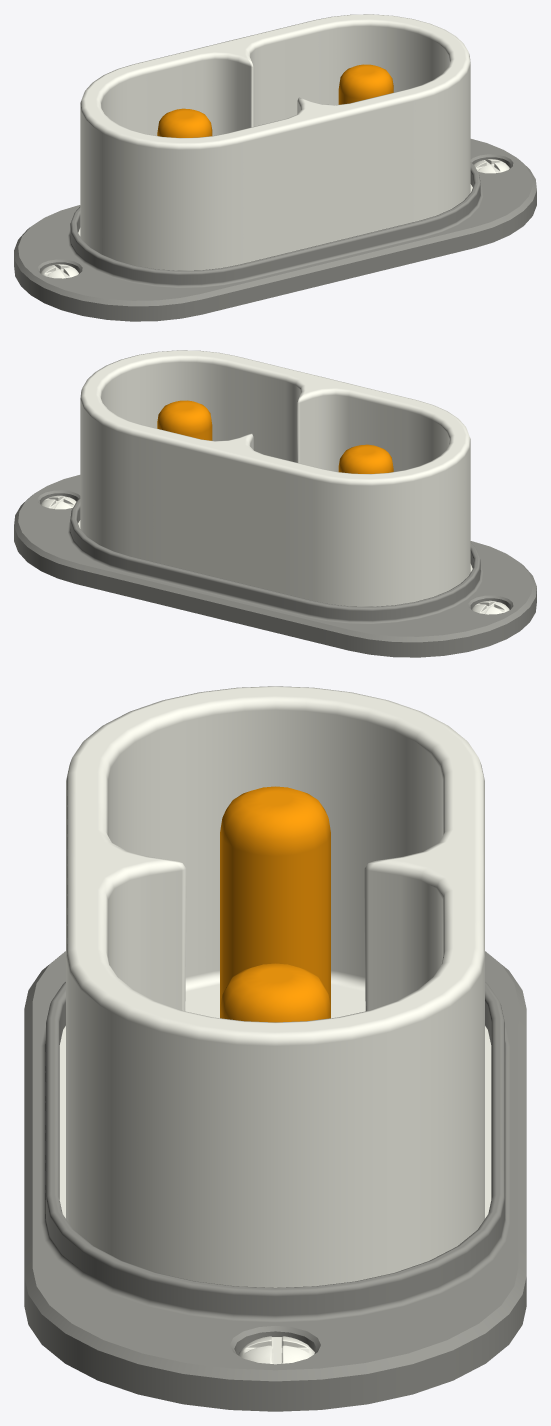
Rendered from Prong Hole #2.fbx.
The picture shows the model from 3 angles, top to bottom: view 1: azimuth 30°, elevation 25°; view 2: azimuth 150°, elevation 25°; view 3: azimuth 270°, elevation 25°; orthographic projection. The views are drawn at different scales.
Visible parts, largest first — view 1: kitbash_90; view 2: kitbash_90; view 3: kitbash_90.
Boxes of the visible parts, x1=… form: kitbash_90: x1=14, y1=14, x2=536, y2=321; kitbash_90: x1=14, y1=350, x2=536, y2=657; kitbash_90: x1=24, y1=686, x2=526, y2=1411.
Bounding box in the file's own units: 4.56 × 1.39 × 2.03.
